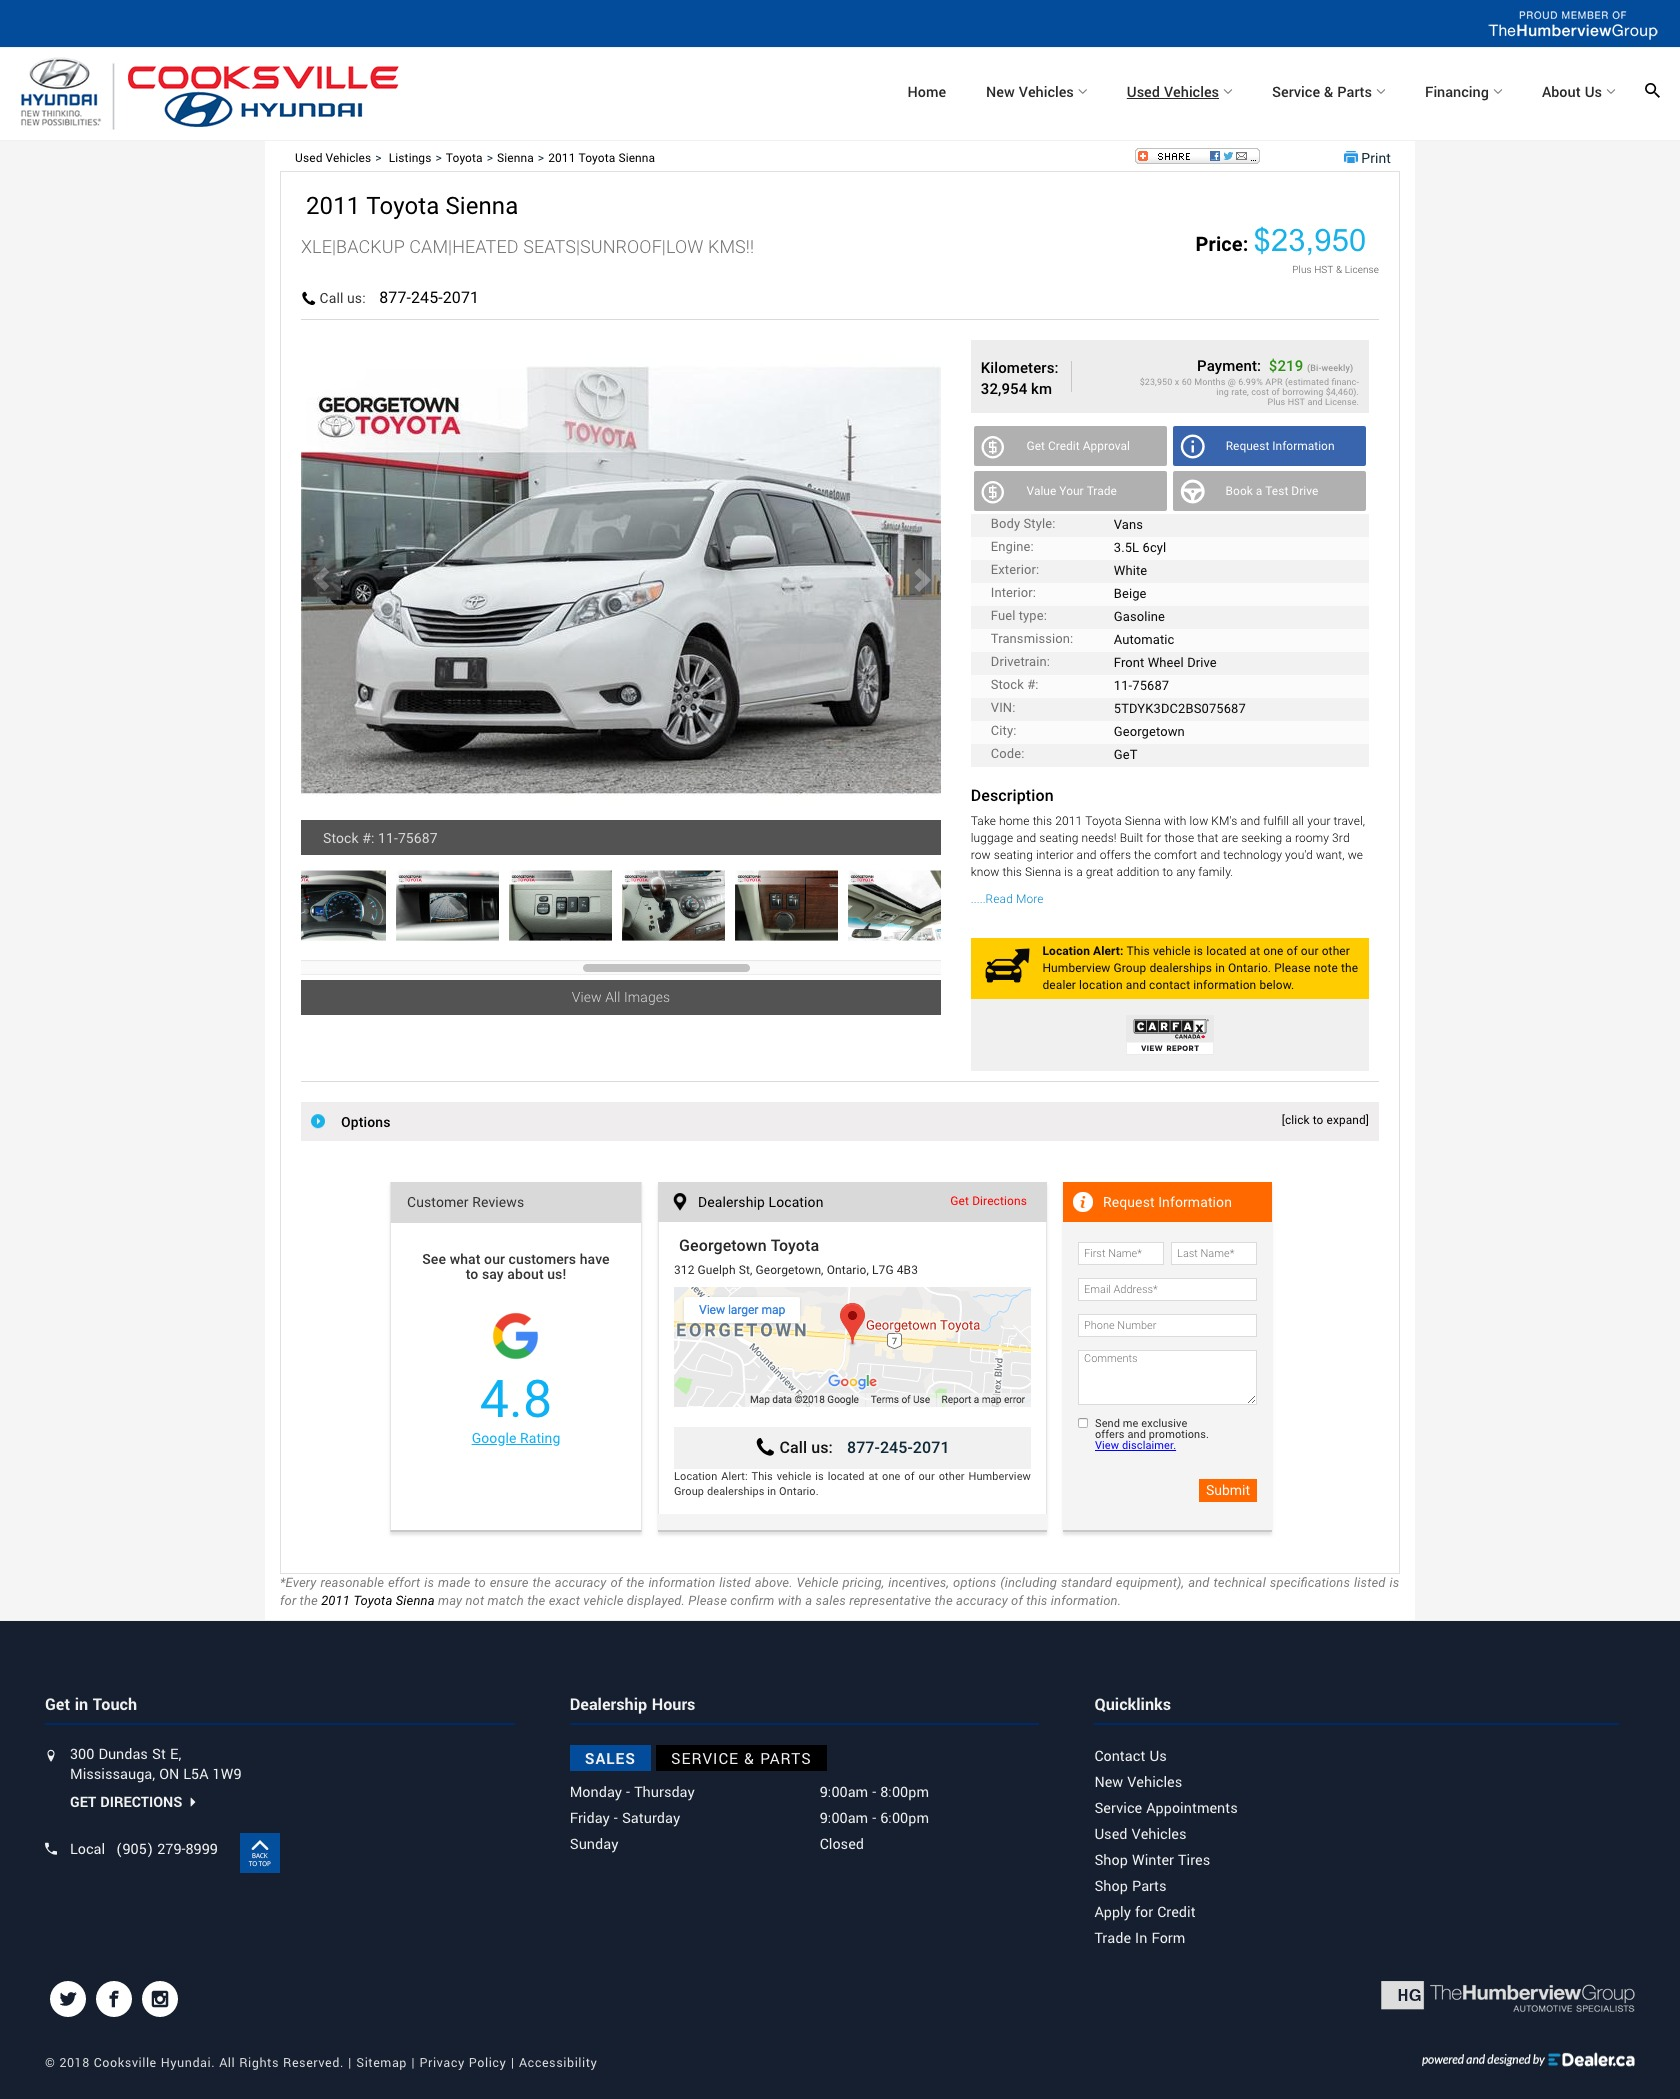car: (902, 560, 945, 601)
